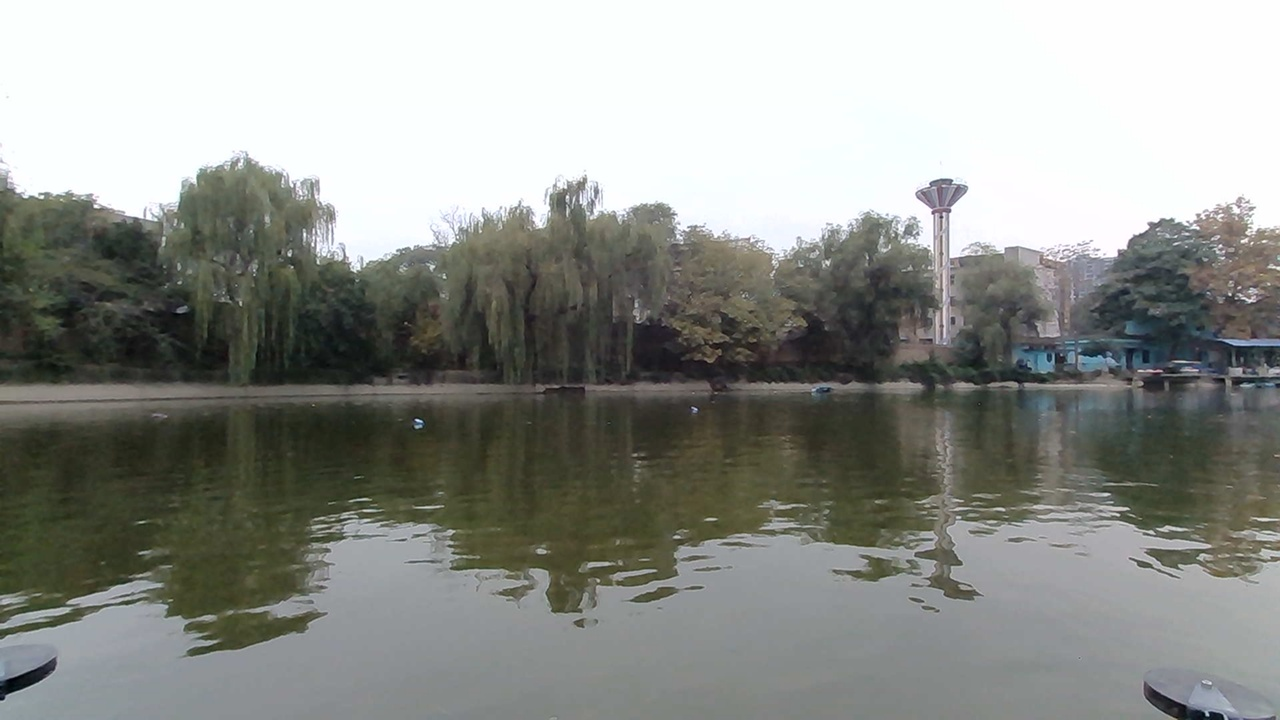bottle: (137, 405, 176, 432), (405, 416, 436, 434)
